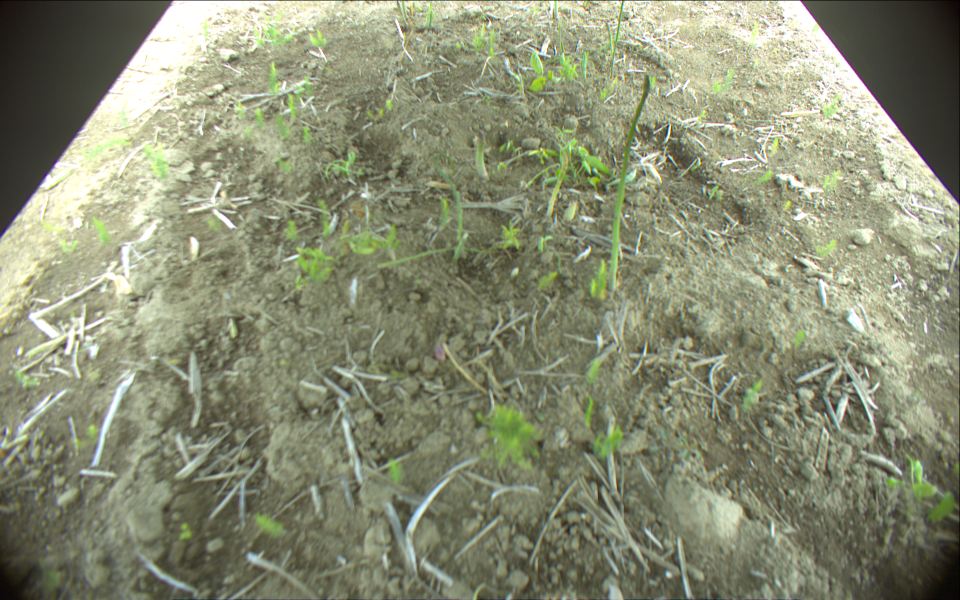aspa: (608, 75, 652, 290), (442, 177, 464, 258), (548, 145, 569, 216), (610, 1, 623, 73), (476, 131, 491, 179), (398, 1, 410, 30), (605, 23, 612, 56)
